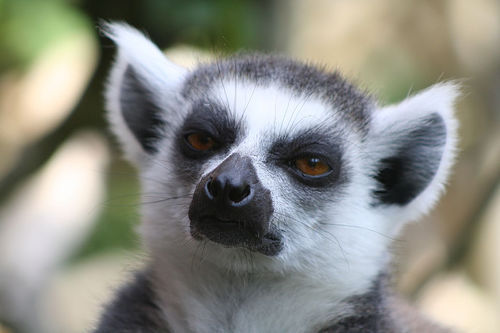cat: (103, 16, 459, 332)
